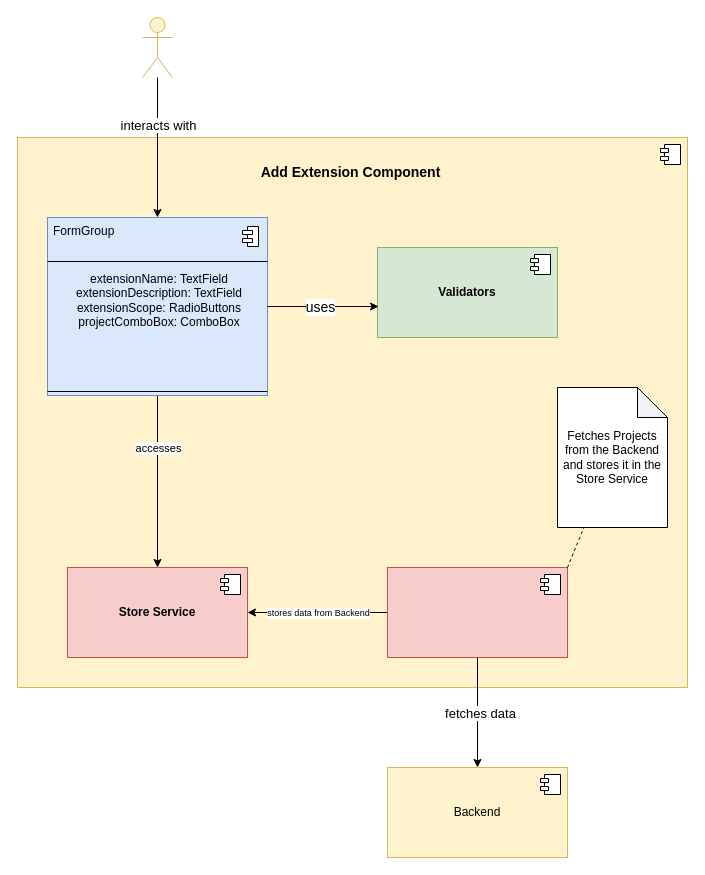
Some shapes in this 705 by 875 pixel diagram are drawn without their labels. The shapes that lost their labels are listed below. From the top down, each one's centre as x and y in pixels, then its label:
point 157,47: User
point 477,612: Backend Service
